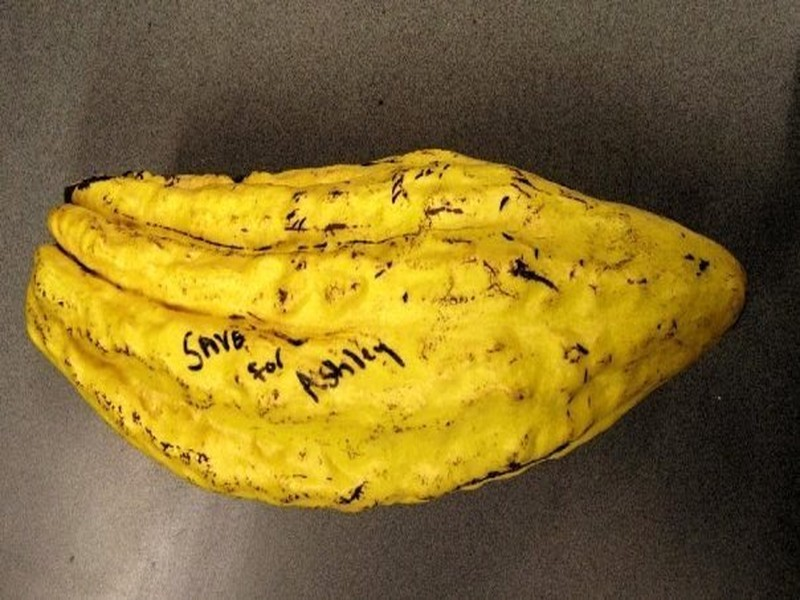Cacaopod: (23, 146, 750, 513)
